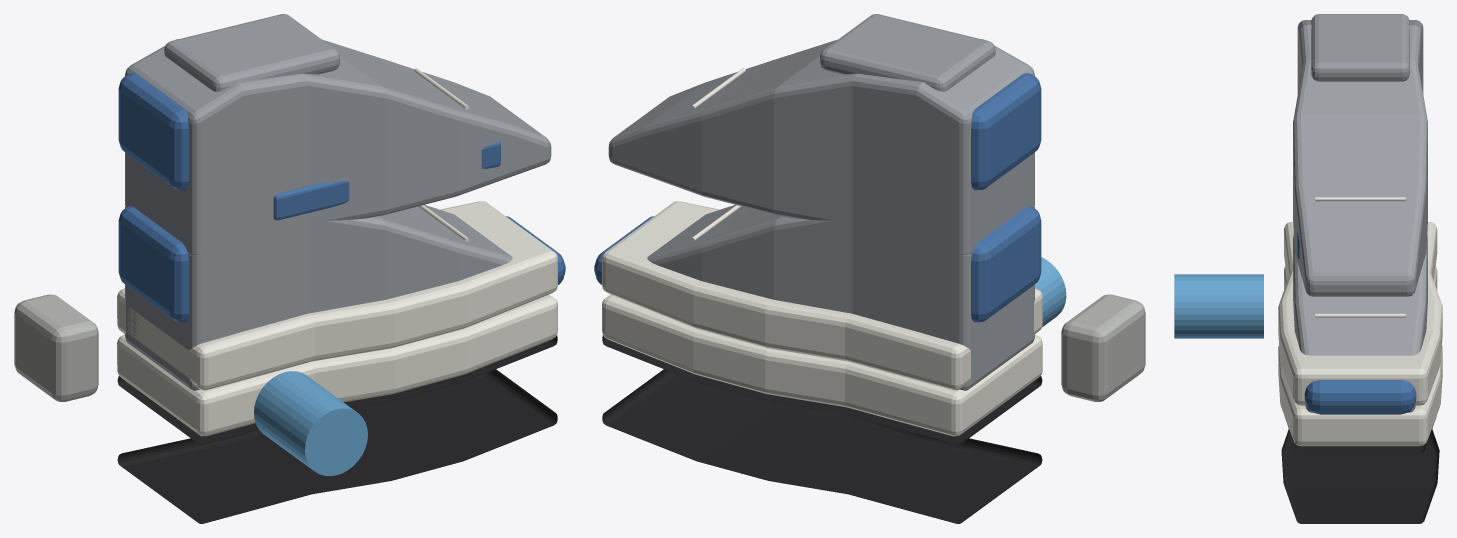
Rendered from nike-pegasus-1-1983.glb.
3 views of the same model, side by side, from view 1: azimuth 30°, elevation 25°; view 2: azimuth 150°, elevation 25°; view 3: azimuth 270°, elevation 25° (orthographic). The views are drawn at different scales.
Parts seen in each view (by area): view 1: nike-pegasus-1-1983_UPPER_EXPLODED, nike-pegasus-1-1983_UPPER, nike-pegasus-1-1983_OUTSOLE_EXPLODED, nike-pegasus-1-1983_MIDSOLE_EXPLODED, nike-pegasus-1-1983_MIDSOLE, nike-pegasus-1-1983_TONGUE_EXPLODED, nike-pegasus-1-1983_AIR_HEEL_EXPLODED, nike-pegasus-1-1983_HEEL_FOAM_EXPLODED, nike-pegasus-1-1983_HEEL_COUNTER_EXPLODED, nike-pegasus-1-1983_HEEL_COUNTER, nike-pegasus-1-1983_OUTSOLE, nike-pegasus-1-1983_SIDE_REINFORCEMENT_EXPLODED; view 2: nike-pegasus-1-1983_UPPER_EXPLODED, nike-pegasus-1-1983_OUTSOLE_EXPLODED, nike-pegasus-1-1983_UPPER, nike-pegasus-1-1983_MIDSOLE_EXPLODED, nike-pegasus-1-1983_MIDSOLE, nike-pegasus-1-1983_TONGUE_EXPLODED, nike-pegasus-1-1983_HEEL_FOAM_EXPLODED, nike-pegasus-1-1983_HEEL_COUNTER_EXPLODED, nike-pegasus-1-1983_HEEL_COUNTER, nike-pegasus-1-1983_OUTSOLE, nike-pegasus-1-1983_AIR_HEEL_EXPLODED; view 3: nike-pegasus-1-1983_UPPER_EXPLODED, nike-pegasus-1-1983_OUTSOLE_EXPLODED, nike-pegasus-1-1983_UPPER, nike-pegasus-1-1983_MIDSOLE_EXPLODED, nike-pegasus-1-1983_TONGUE_EXPLODED, nike-pegasus-1-1983_MIDSOLE, nike-pegasus-1-1983_AIR_HEEL_EXPLODED, nike-pegasus-1-1983_TOE_OVERLAY, nike-pegasus-1-1983_OUTSOLE, nike-pegasus-1-1983_LACE_5, nike-pegasus-1-1983_LACE_5_EXPLODED.
Part boxes in pixels (left/top/right/bottom): nike-pegasus-1-1983_UPPER_EXPLODED: left=125, top=39, right=551, bottom=255; nike-pegasus-1-1983_UPPER: left=125, top=204, right=512, bottom=390; nike-pegasus-1-1983_OUTSOLE_EXPLODED: left=117, top=369, right=557, bottom=523; nike-pegasus-1-1983_MIDSOLE_EXPLODED: left=117, top=201, right=557, bottom=390; nike-pegasus-1-1983_MIDSOLE: left=117, top=294, right=557, bottom=436; nike-pegasus-1-1983_TONGUE_EXPLODED: left=164, top=14, right=339, bottom=91; nike-pegasus-1-1983_AIR_HEEL_EXPLODED: left=254, top=371, right=367, bottom=476; nike-pegasus-1-1983_HEEL_FOAM_EXPLODED: left=14, top=294, right=98, bottom=401; nike-pegasus-1-1983_HEEL_COUNTER_EXPLODED: left=118, top=73, right=188, bottom=190; nike-pegasus-1-1983_HEEL_COUNTER: left=118, top=206, right=188, bottom=322; nike-pegasus-1-1983_OUTSOLE: left=117, top=335, right=557, bottom=444; nike-pegasus-1-1983_SIDE_REINFORCEMENT_EXPLODED: left=273, top=141, right=500, bottom=220; nike-pegasus-1-1983_UPPER_EXPLODED: left=608, top=39, right=1034, bottom=254; nike-pegasus-1-1983_OUTSOLE_EXPLODED: left=602, top=369, right=1042, bottom=523; nike-pegasus-1-1983_UPPER: left=647, top=204, right=1034, bottom=390; nike-pegasus-1-1983_MIDSOLE_EXPLODED: left=602, top=201, right=1042, bottom=390; nike-pegasus-1-1983_MIDSOLE: left=602, top=294, right=1042, bottom=436; nike-pegasus-1-1983_TONGUE_EXPLODED: left=820, top=14, right=995, bottom=91; nike-pegasus-1-1983_HEEL_FOAM_EXPLODED: left=1061, top=294, right=1145, bottom=401; nike-pegasus-1-1983_HEEL_COUNTER_EXPLODED: left=971, top=73, right=1041, bottom=190; nike-pegasus-1-1983_HEEL_COUNTER: left=971, top=206, right=1041, bottom=322; nike-pegasus-1-1983_OUTSOLE: left=602, top=335, right=1042, bottom=444; nike-pegasus-1-1983_AIR_HEEL_EXPLODED: left=1035, top=257, right=1066, bottom=327; nike-pegasus-1-1983_UPPER_EXPLODED: left=1293, top=20, right=1427, bottom=296; nike-pegasus-1-1983_OUTSOLE_EXPLODED: left=1281, top=429, right=1439, bottom=523; nike-pegasus-1-1983_UPPER: left=1293, top=235, right=1427, bottom=412; nike-pegasus-1-1983_MIDSOLE_EXPLODED: left=1278, top=222, right=1442, bottom=405; nike-pegasus-1-1983_TONGUE_EXPLODED: left=1311, top=14, right=1409, bottom=81; nike-pegasus-1-1983_MIDSOLE: left=1278, top=266, right=1442, bottom=446; nike-pegasus-1-1983_AIR_HEEL_EXPLODED: left=1174, top=274, right=1263, bottom=338; nike-pegasus-1-1983_TOE_OVERLAY: left=1304, top=380, right=1416, bottom=414; nike-pegasus-1-1983_OUTSOLE: left=1285, top=419, right=1435, bottom=453; nike-pegasus-1-1983_LACE_5: left=1315, top=313, right=1405, bottom=317; nike-pegasus-1-1983_LACE_5_EXPLODED: left=1315, top=197, right=1405, bottom=201.
Bounding box in the file's own units: 0.4011 × 0.324 × 0.209.
